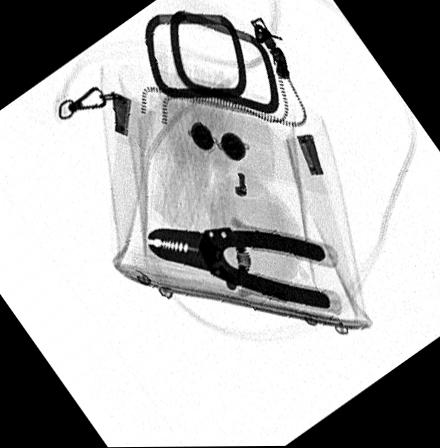Pliers: (145, 228, 328, 310)
